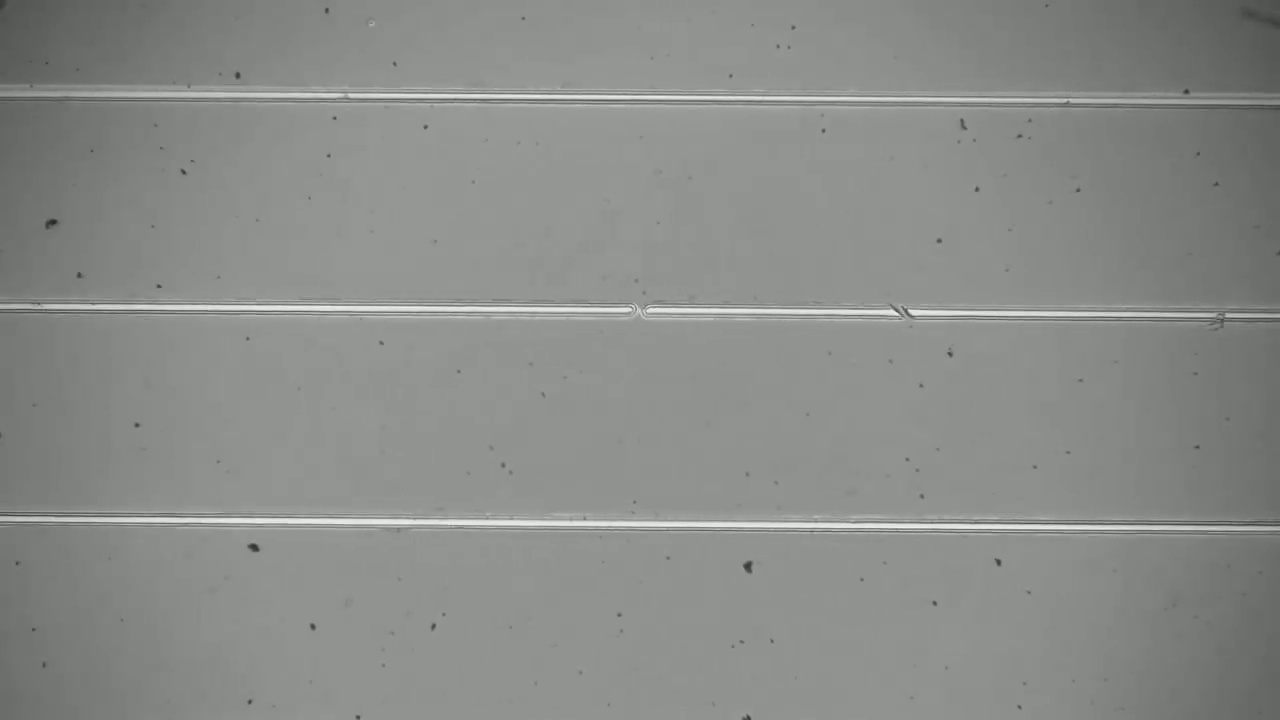open: (614, 287, 659, 329), (879, 290, 924, 328)
stains_enbedded: (1196, 299, 1236, 340)
